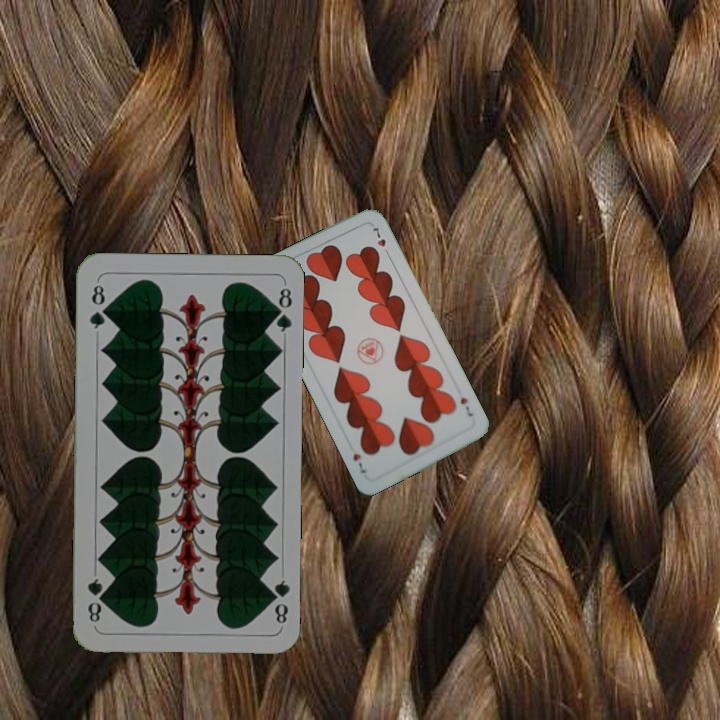G8: (265, 576, 292, 626), (85, 280, 109, 331)
H7: (456, 393, 476, 419)
